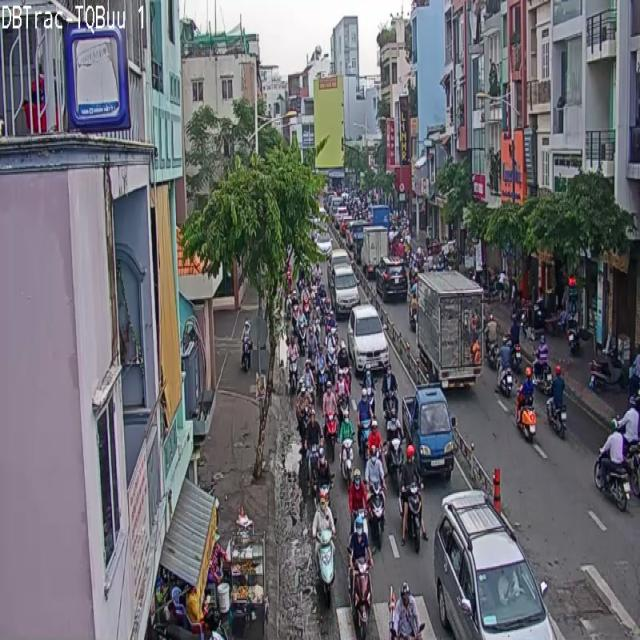car: (349, 516, 372, 639), (315, 530, 334, 606), (368, 485, 384, 549)
traffic-light: (434, 491, 554, 639), (347, 306, 388, 374), (331, 267, 359, 317)
truck: (404, 385, 454, 478)
